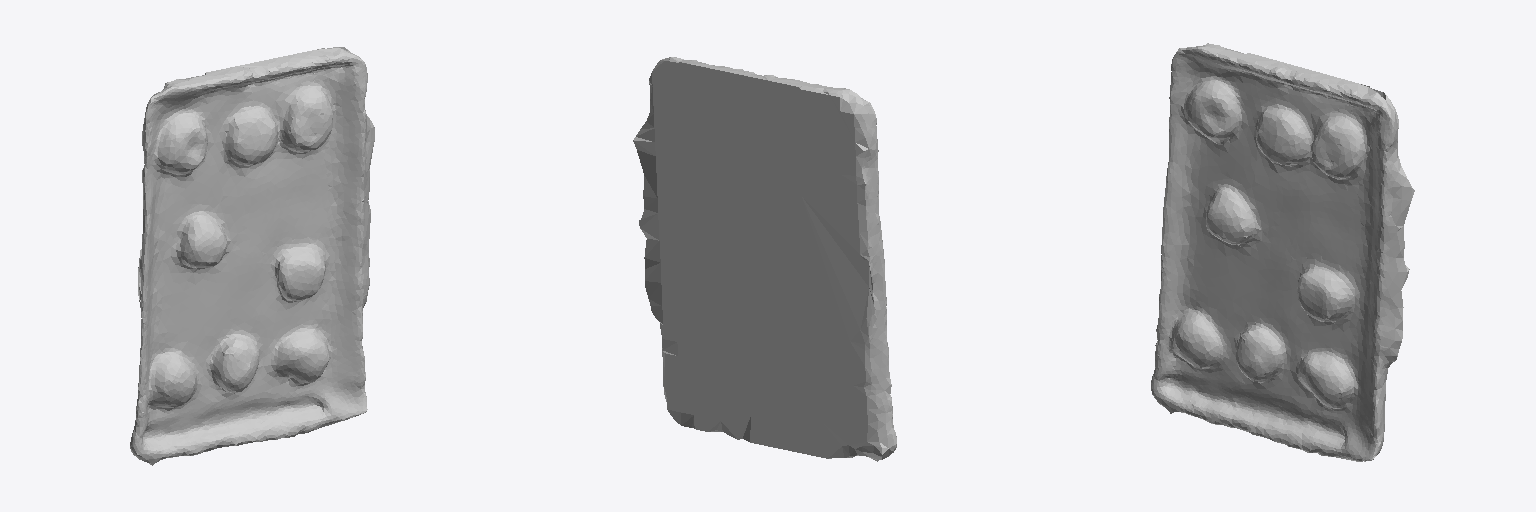
File: Trayofcookies.obj
3 views of the same model, side by side, from view 1: azimuth 30°, elevation 25°; view 2: azimuth 150°, elevation 25°; view 3: azimuth 330°, elevation 25° (orthographic).
Parts seen in each view (by area): view 1: default; view 2: default; view 3: default.
Part boxes in pixels (x1,y1,x2,y2): default: (130, 47, 374, 465); default: (633, 57, 896, 461); default: (1151, 43, 1414, 461).
Bounding box in the file's own units: 23.4 × 33.14 × 3.14.